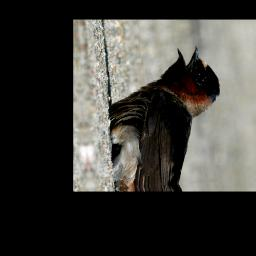Swallow: (97, 42, 230, 189)
